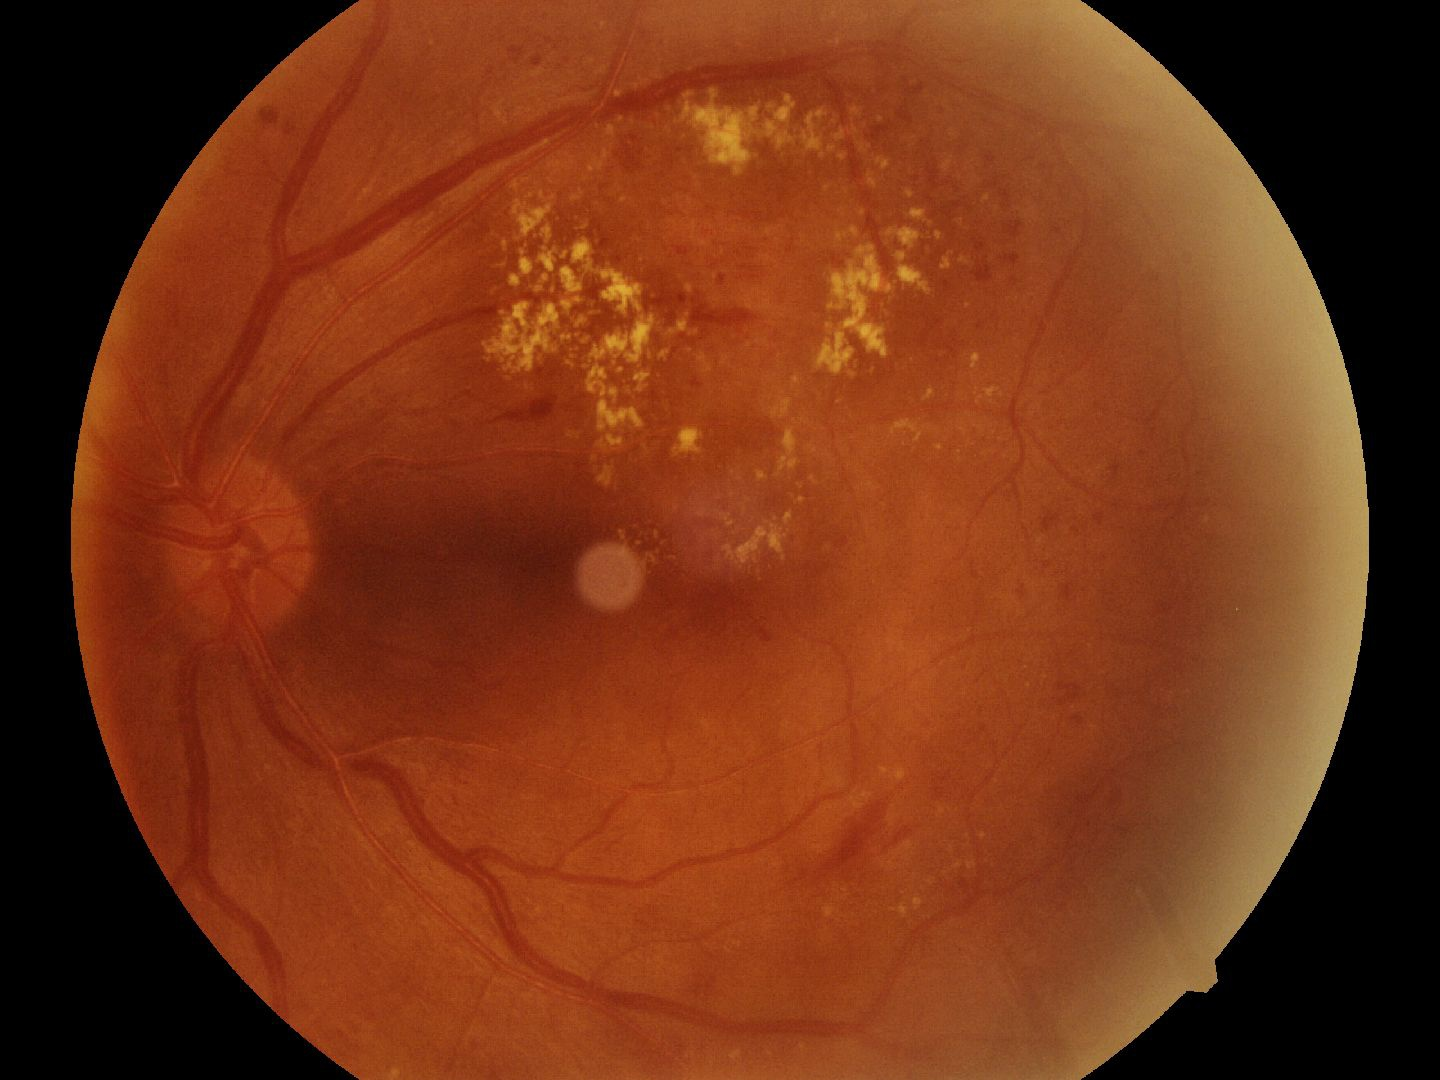Exudates: (505, 172, 668, 465), (814, 220, 945, 407), (689, 83, 867, 176), (728, 431, 831, 583)
Optic-Disc: (159, 444, 314, 639)
Venules: (327, 748, 519, 940), (240, 171, 315, 408)
